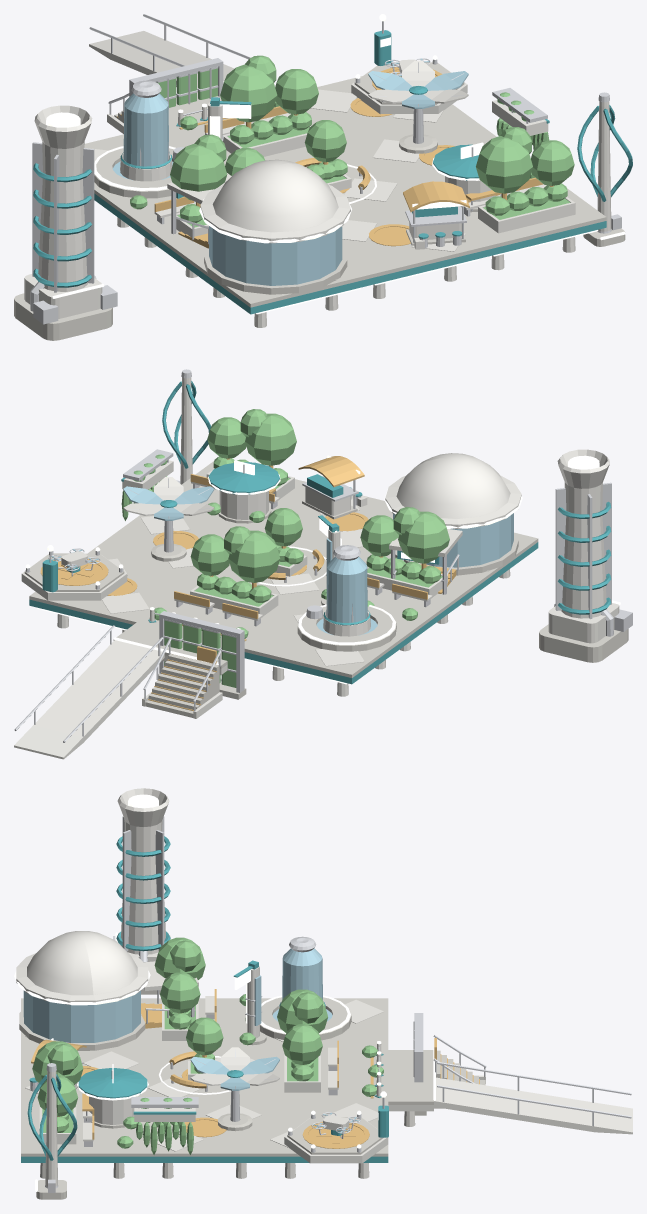
The model's file is arcology-towers-and-skyways-street-deck-plaza-c373f429__23282.glb.
3 renders of one model, top to bottom at view 1: azimuth 30°, elevation 25°; view 2: azimuth 150°, elevation 25°; view 3: azimuth 270°, elevation 25°, orthographic. The views are drawn at different scales.
Visible parts, largest first — view 1: 010-transit-portal-head-house/2, 023-fusion-vent-stack/1, 008-planted-deck-tile/4, 001-planted-deck-tile/4, 010-transit-portal-head-house/1, 007-plaza-deck-tile/2, 023-fusion-vent-stack/4, 003-planted-deck-tile/4, 017-water-column/1, 005-plaza-deck-tile/2, 009-deck-stair-ramp-module/0, 002-plaza-deck-tile/2 (+51 smaller); view 2: 009-deck-stair-ramp-module/0, 010-transit-portal-head-house/2, 023-fusion-vent-stack/1, 001-planted-deck-tile/4, 003-planted-deck-tile/4, 008-planted-deck-tile/4, 009-deck-stair-ramp-module/1, 000-plaza-deck-tile/2, 002-plaza-deck-tile/2, 023-fusion-vent-stack/4, 005-plaza-deck-tile/2, 017-water-column/1 (+40 smaller); view 3: 010-transit-portal-head-house/2, 009-deck-stair-ramp-module/0, 023-fusion-vent-stack/1, 010-transit-portal-head-house/1, 001-planted-deck-tile/4, 003-planted-deck-tile/4, 001-planted-deck-tile/2, 005-plaza-deck-tile/2, 008-planted-deck-tile/2, 008-planted-deck-tile/4, 009-deck-stair-ramp-module/1, 002-plaza-deck-tile/2 (+33 smaller).
Part boxes in pixels (x1,y1,x2,y2): 010-transit-portal-head-house/2: (167,159,350,243); 023-fusion-vent-stack/1: (24,105,102,318); 008-planted-deck-tile/4: (476,127,574,219); 001-planted-deck-tile/4: (180,55,318,147); 010-transit-portal-head-house/1: (209,226,342,285); 007-plaza-deck-tile/2: (342,199,487,278); 023-fusion-vent-stack/4: (30,142,117,324); 003-planted-deck-tile/4: (130,134,264,227); 017-water-column/1: (112,93,173,180); 005-plaza-deck-tile/2: (351,117,496,188); 009-deck-stair-ramp-module/0: (89,31,234,133); 002-plaza-deck-tile/2: (306,76,469,145); 009-deck-stair-ramp-module/0: (14,640,227,759); 010-transit-portal-head-house/2: (385,453,521,557); 023-fusion-vent-stack/1: (548,449,619,643); 001-planted-deck-tile/4: (154,526,280,638); 003-planted-deck-tile/4: (321,507,449,620); 008-planted-deck-tile/4: (207,409,296,522); 009-deck-stair-ramp-module/1: (113,622,227,717); 000-plaza-deck-tile/2: (244,603,413,677); 002-plaza-deck-tile/2: (29,550,197,624); 023-fusion-vent-stack/4: (554,482,632,636); 005-plaza-deck-tile/2: (92,515,256,576); 017-water-column/1: (316,556,377,635); 010-transit-portal-head-house/2: (16,931,198,1004); 009-deck-stair-ramp-module/0: (388,1075,632,1134); 023-fusion-vent-stack/1: (117,788,170,961); 010-transit-portal-head-house/1: (23,990,140,1042); 001-planted-deck-tile/4: (277,989,383,1096); 003-planted-deck-tile/4: (154,937,255,1045); 001-planted-deck-tile/2: (266,1050,388,1101); 005-plaza-deck-tile/2: (143,1101,265,1156); 008-planted-deck-tile/2: (21,1101,143,1156); 008-planted-deck-tile/4: (32,1041,138,1148); 009-deck-stair-ramp-module/1: (388,1050,485,1104); 002-plaza-deck-tile/2: (266,1101,388,1156).
Size of the model in its own units: 36.82 by 13.1 by 40.47.
